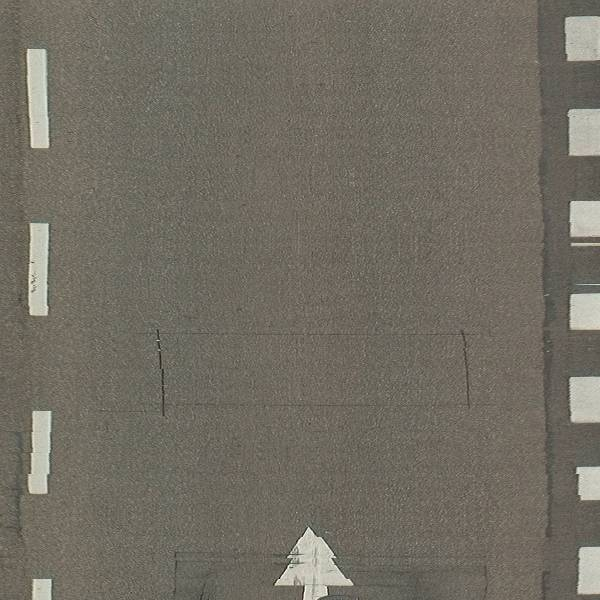road_damage: (155, 395, 487, 409), (167, 547, 318, 572)
